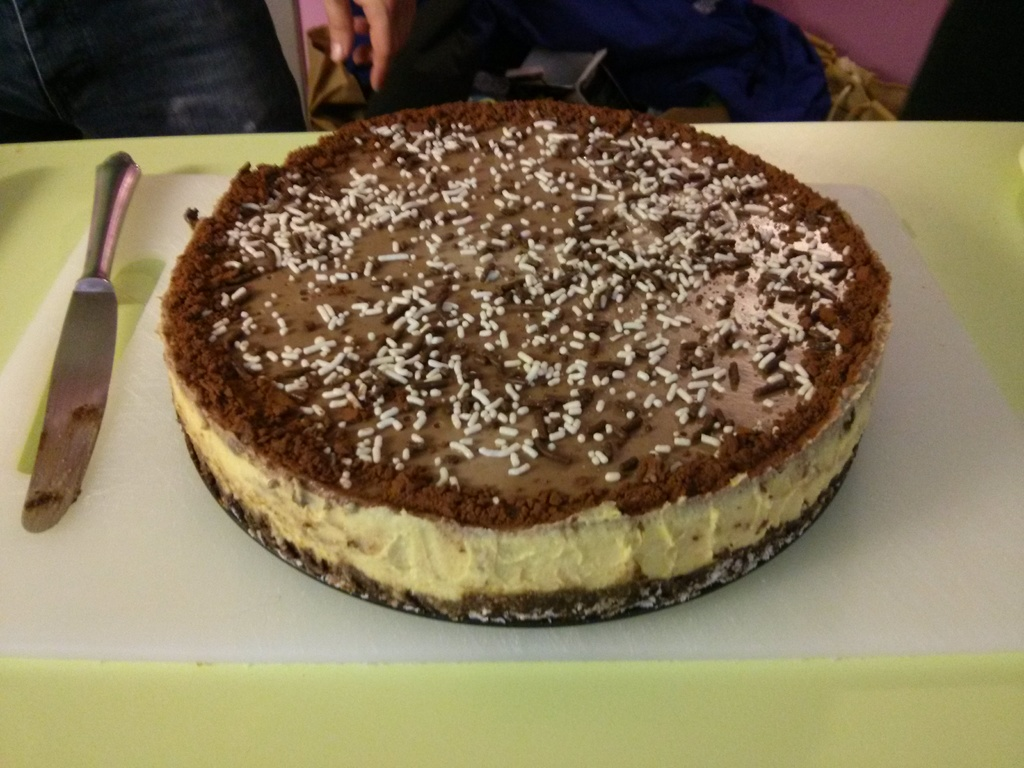person: (0, 0, 330, 143)
